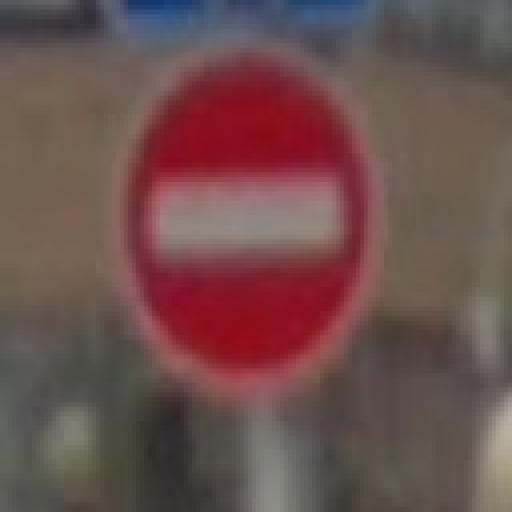traffic_sign: (117, 44, 385, 398)
